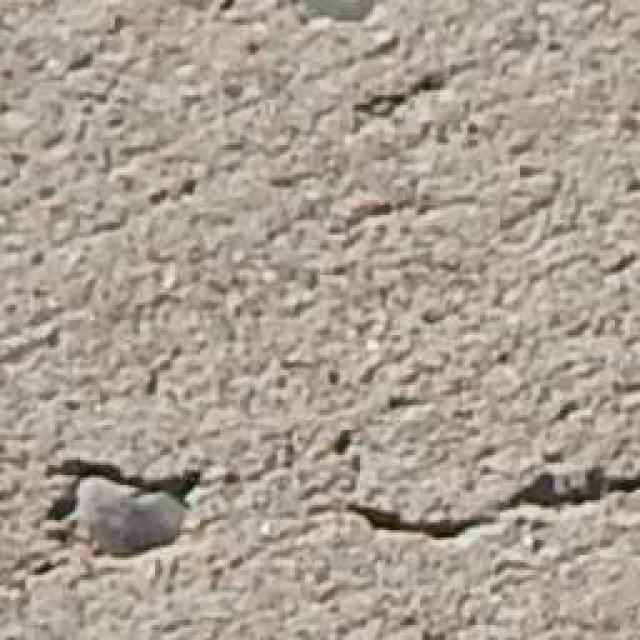concrete-crack: (302, 460, 639, 554), (15, 456, 213, 581)
